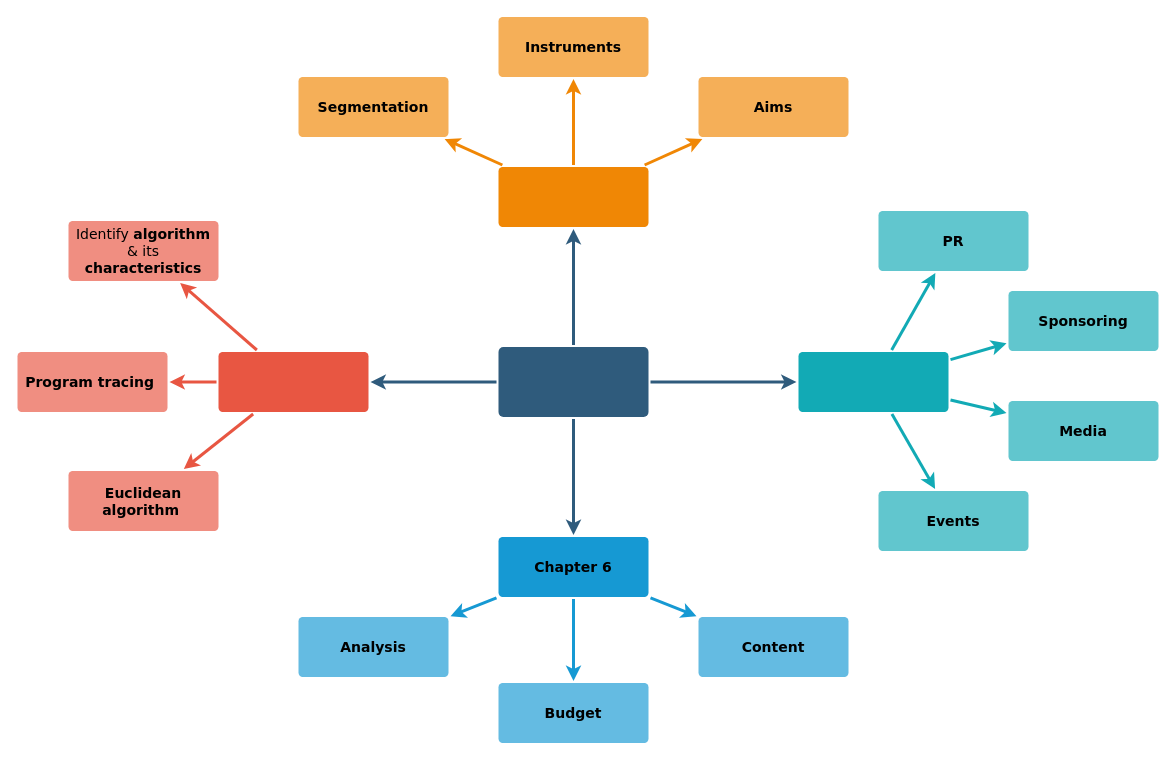
Image size: 1175x760. Some labels were removed from this diagram. Each missing label, with the box of its shape:
Chapter 4: (218, 352, 368, 412)
Chapter 5: (798, 352, 948, 412)
Chapter 7: (498, 166, 648, 226)
Discrete: (498, 346, 648, 416)
